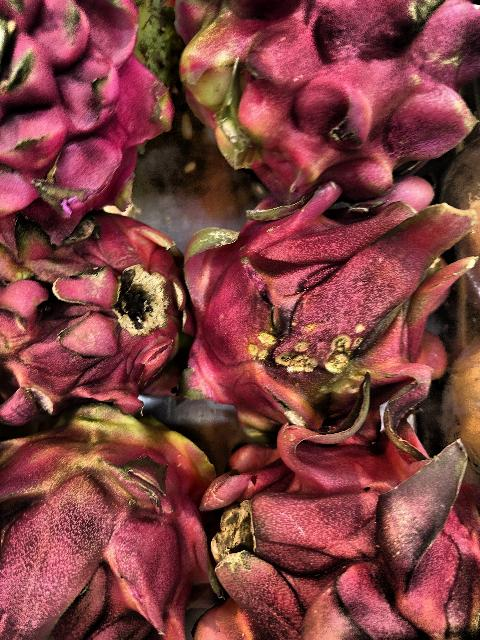buah-naga-belum-matang: (172, 193, 480, 452), (194, 420, 480, 640), (169, 1, 479, 198), (0, 418, 212, 640), (0, 212, 176, 432)
buah-naga-matang: (0, 1, 174, 226)
